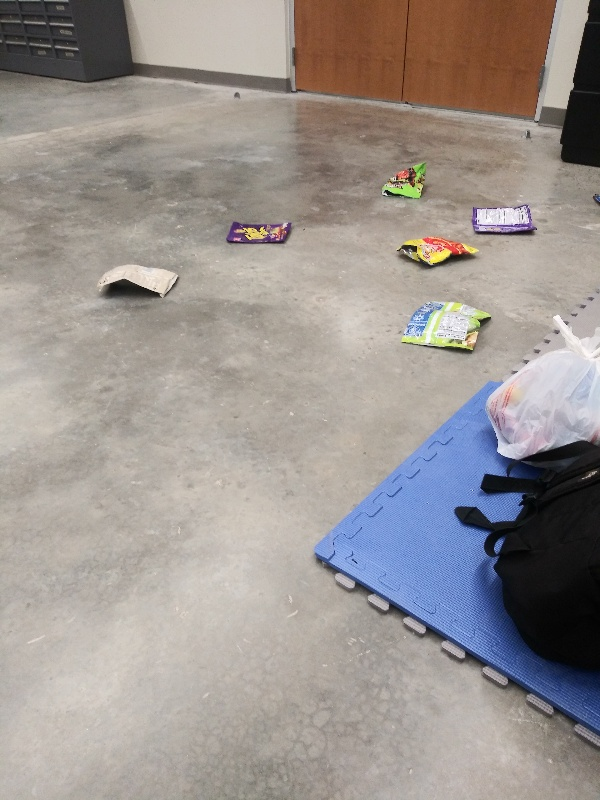bag: (395, 297, 497, 354), (92, 262, 183, 301), (393, 231, 484, 268), (377, 160, 435, 203), (467, 201, 540, 235), (222, 220, 296, 249)
